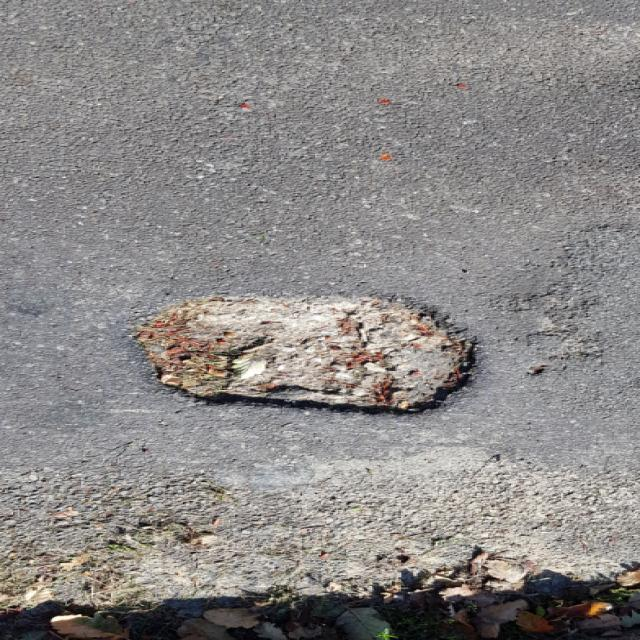pothole: (122, 286, 480, 420)
